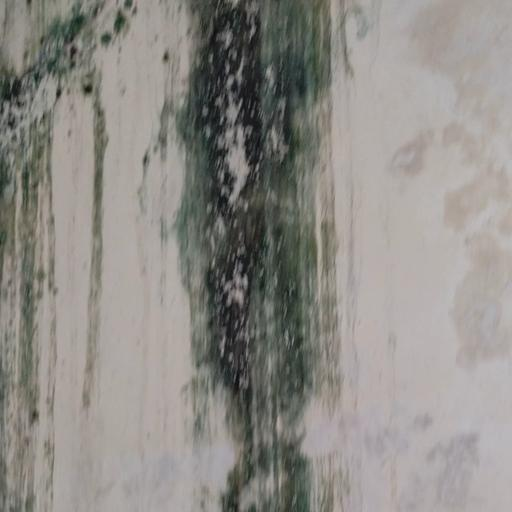algae: (15, 0, 429, 501)
